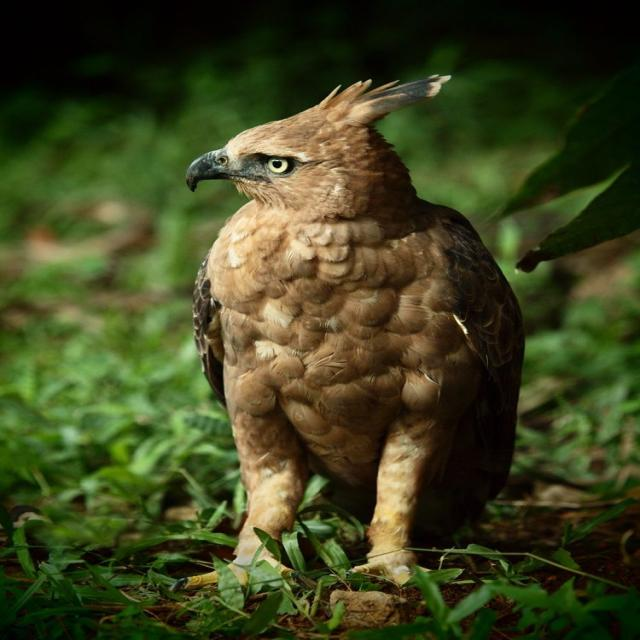Elang Jawa: (150, 51, 546, 618)
